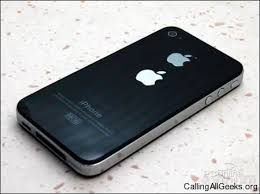iphone: (9, 22, 246, 178)
iphone4: (7, 22, 244, 178)
